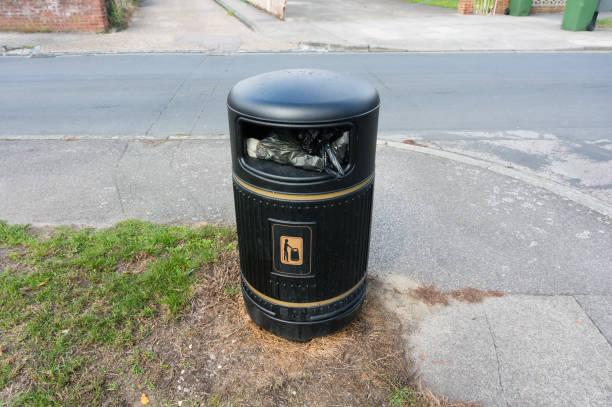trash: (235, 120, 357, 176)
trash_can_overflow: (201, 57, 391, 350)
